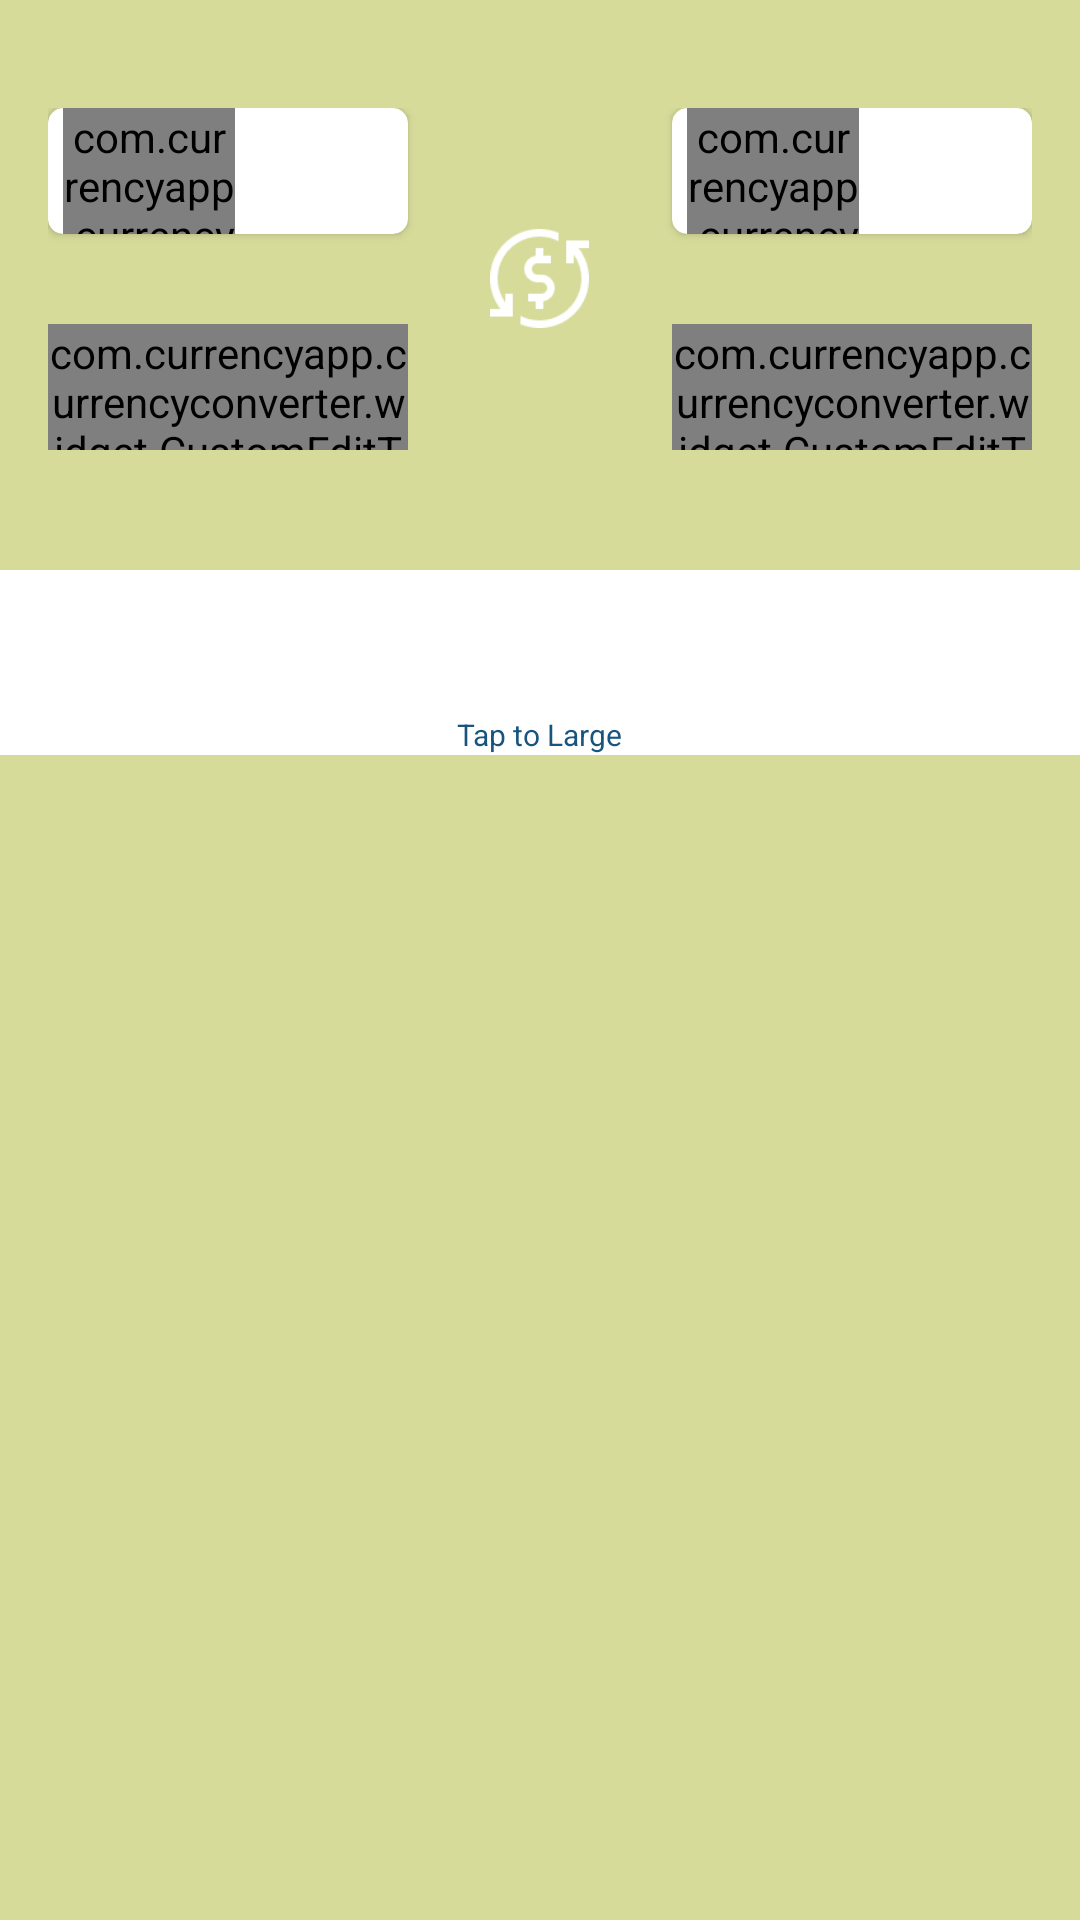

Where to tap for icons on this 1080*1920 app screen, as (x,y):
currency exchange: (539,278)
